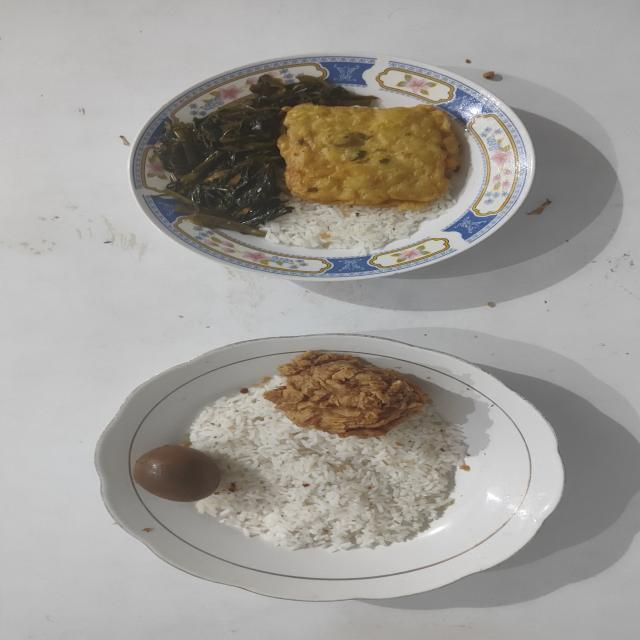nasi_putih: (190, 376, 468, 552), (261, 194, 456, 256)
tumis_kangkung: (155, 75, 375, 236)
